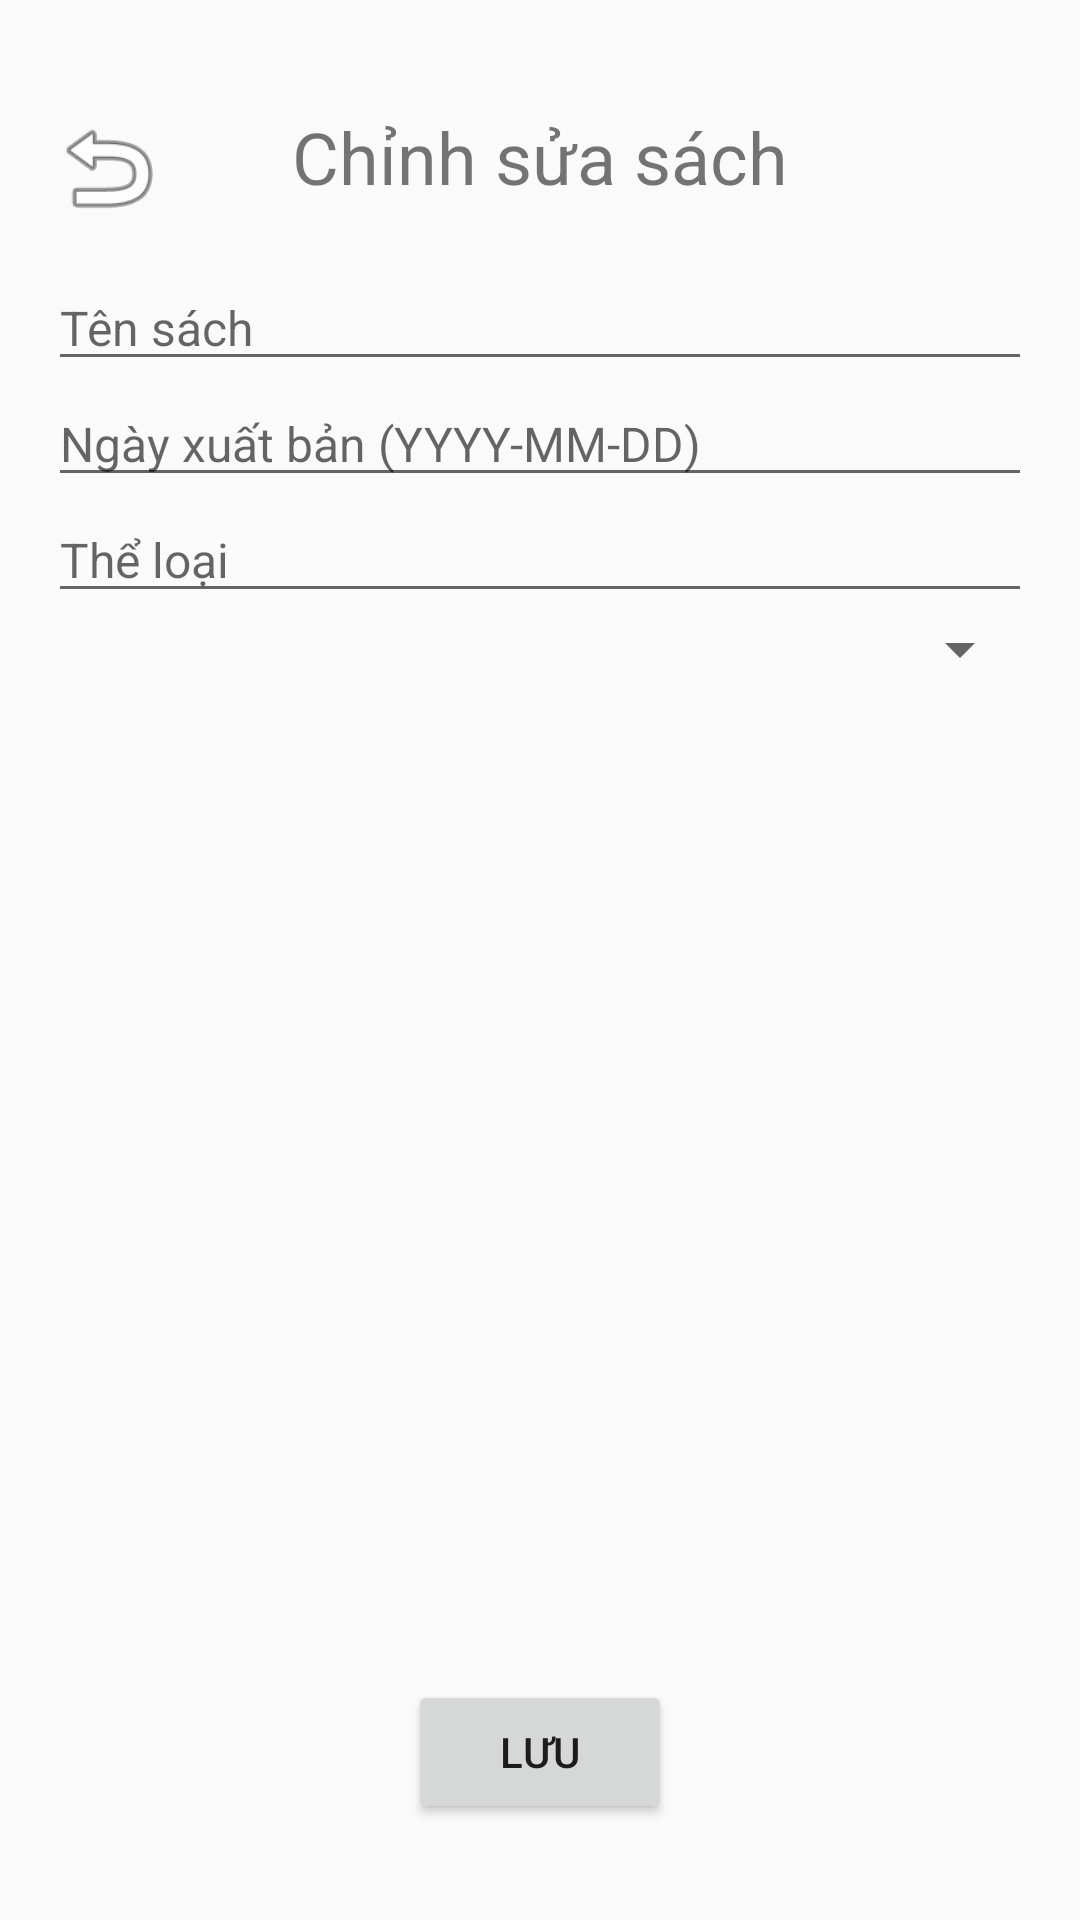

Named icons in this screenshot (1080 × 1920) and their bounding boxes, (x1, y1, x2, y2):
revert: (66, 130, 153, 208)
